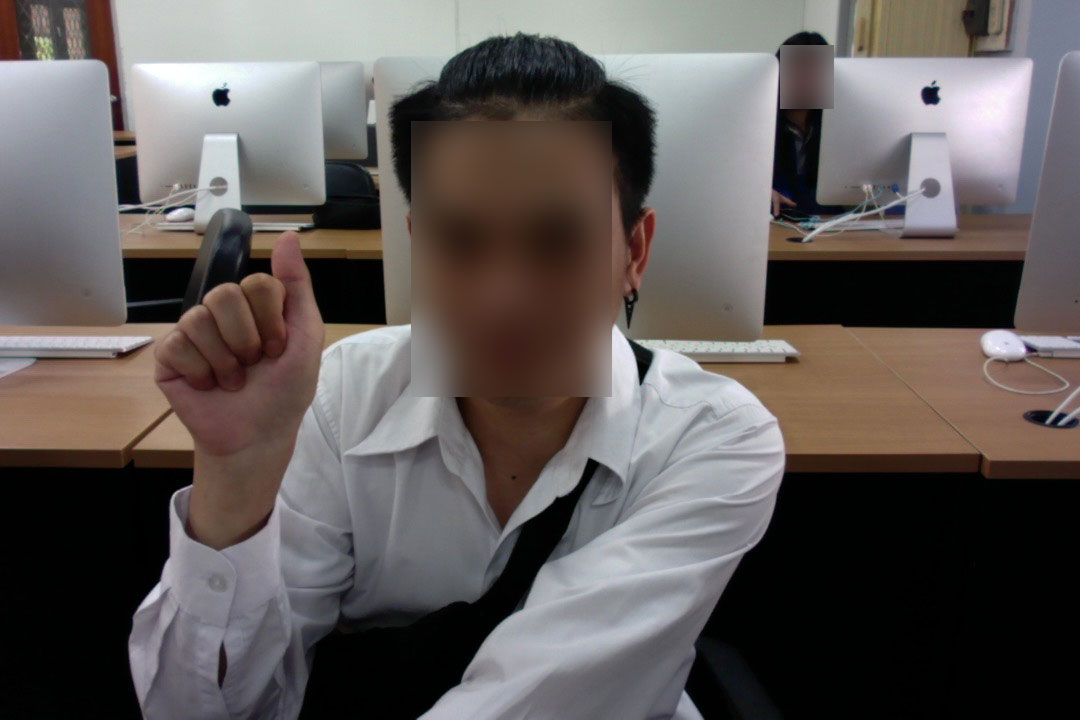or: (143, 223, 335, 477)
